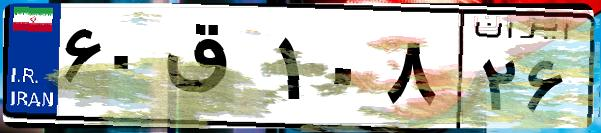0: (330, 28, 385, 110), (110, 28, 158, 98)
1: (270, 28, 330, 110)
2: (475, 38, 525, 113)
6: (57, 26, 110, 100), (525, 38, 570, 115)
8: (385, 28, 445, 110)
ق: (158, 20, 270, 120)
